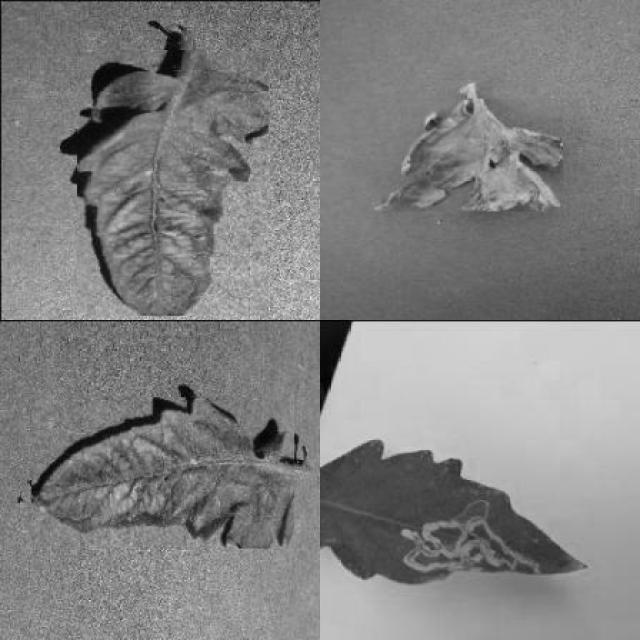Late Blight: (374, 98, 562, 212)
Leaf Miner: (322, 440, 592, 586)
Mosaic Virus: (78, 50, 268, 316), (32, 397, 294, 549)
